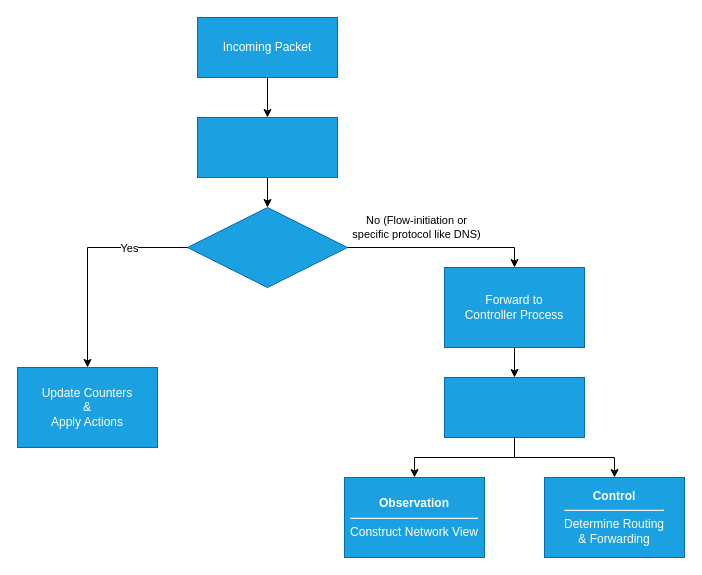
Some shapes in this 702 by 575 pixel diagram are drawn without their labels. Here are the shapes that lost their labels. From the top down, the centre of each, then its label:
At point (267, 147): "Arrives at Switch".
At point (267, 247): "Matches Flow Entry?".
At point (514, 407): "NOX Applications".
